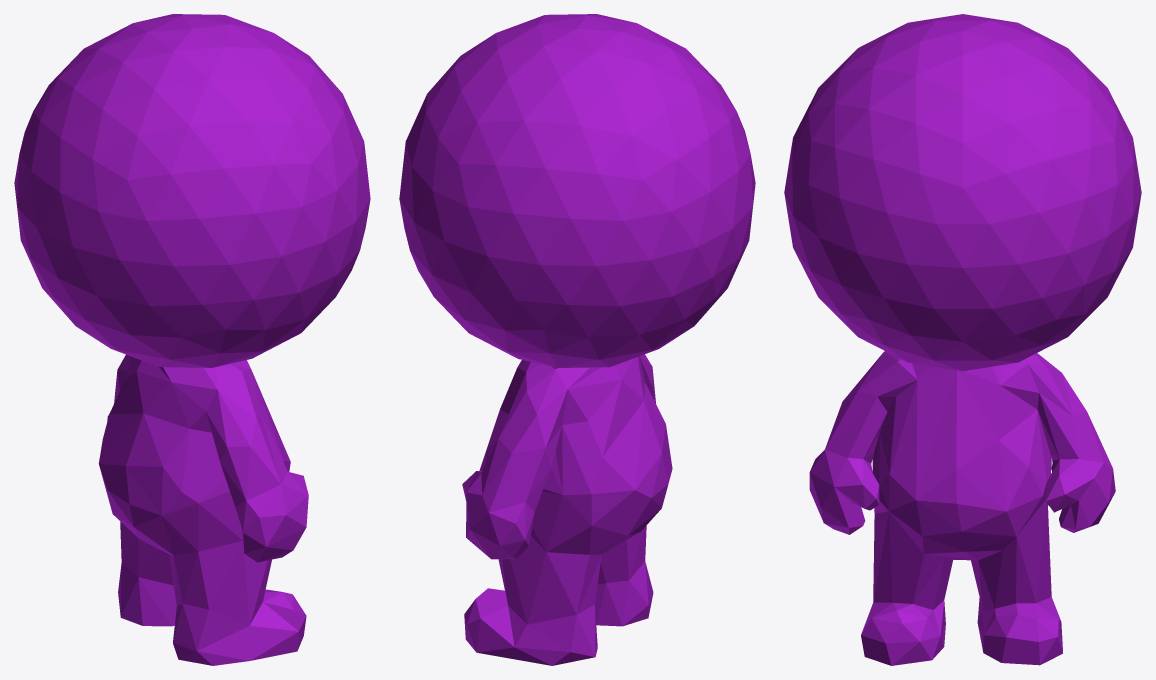
File: Human.obj
The picture shows the model from 3 angles, left to right: view 1: azimuth 30°, elevation 25°; view 2: azimuth 150°, elevation 25°; view 3: azimuth 270°, elevation 25°; orthographic projection.
Visible parts, largest first — view 1: geometry_0; view 2: geometry_0; view 3: geometry_0.
Boxes of the visible parts, <box> form: geometry_0: <box>14,14,370,665</box>; geometry_0: <box>399,14,755,665</box>; geometry_0: <box>784,14,1141,665</box>.
Bounding box in the file's own units: 0.54 × 0.9988 × 0.54.
